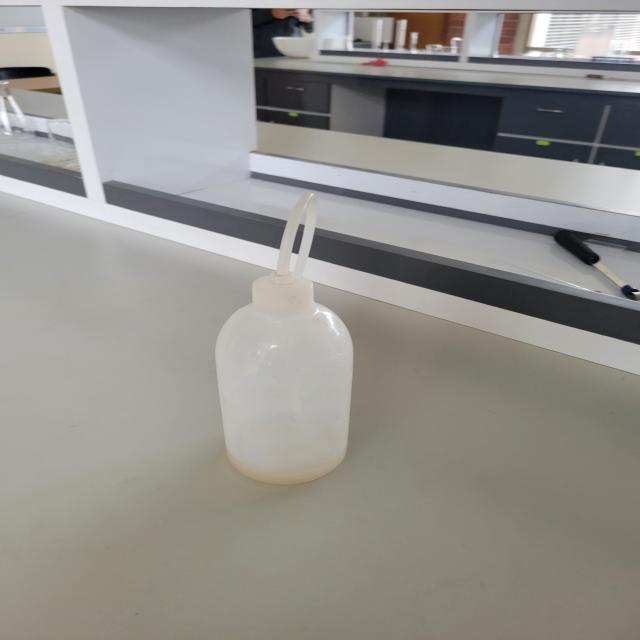Wash_Bottle: (150, 173, 422, 530)
